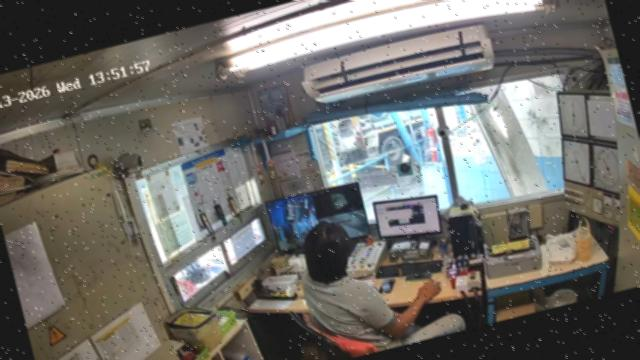Head: (304, 222, 353, 284)
People: (303, 221, 466, 354)
Phone: (404, 273, 433, 282), (379, 279, 397, 293)
